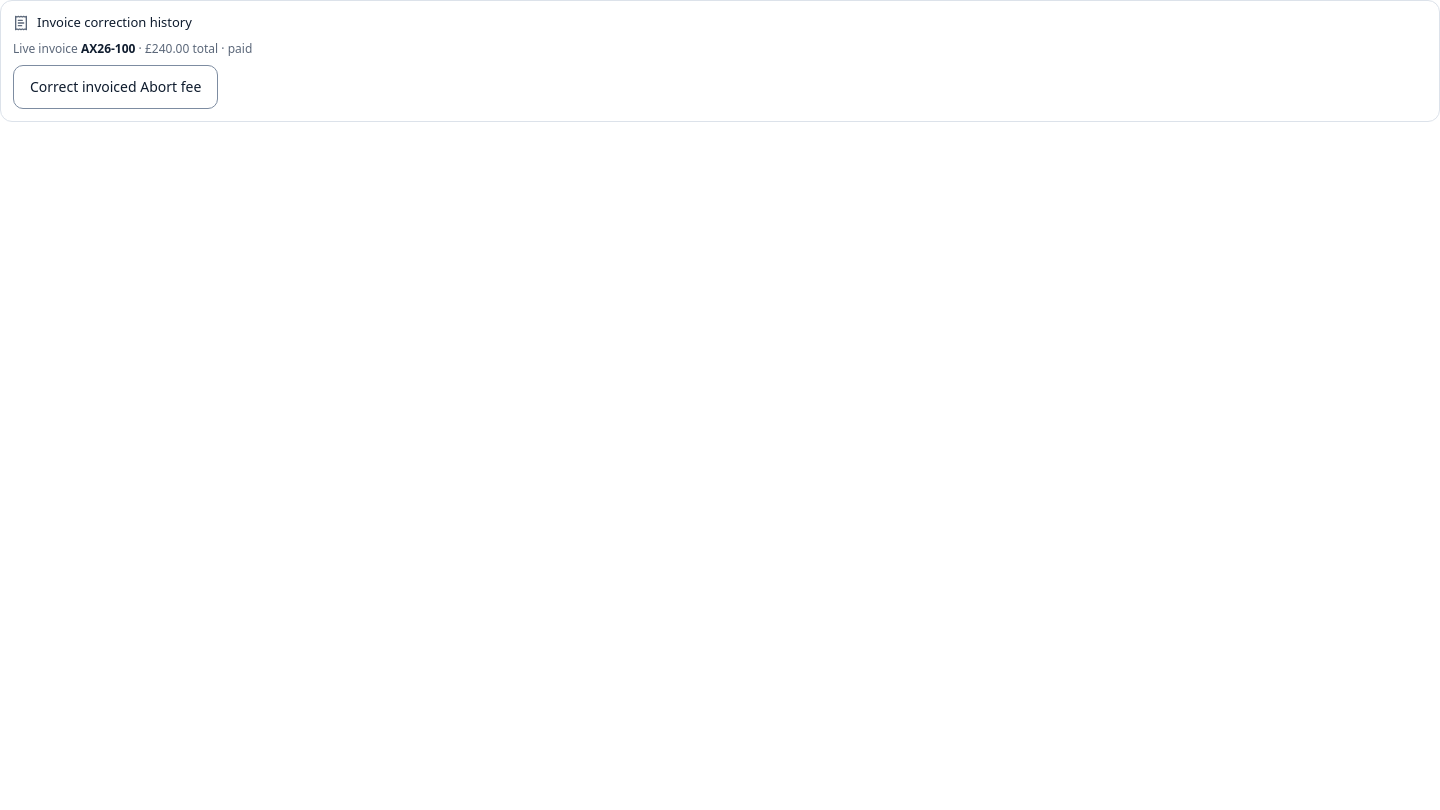
Test case: invoiced Abort fee correction › requires explicit warnings for a paid multi-job invoice
The image size is (1440, 810).
Click the button "Correct invoiced Abort fee". click: point(116, 86)
box: [13,64,218,108]
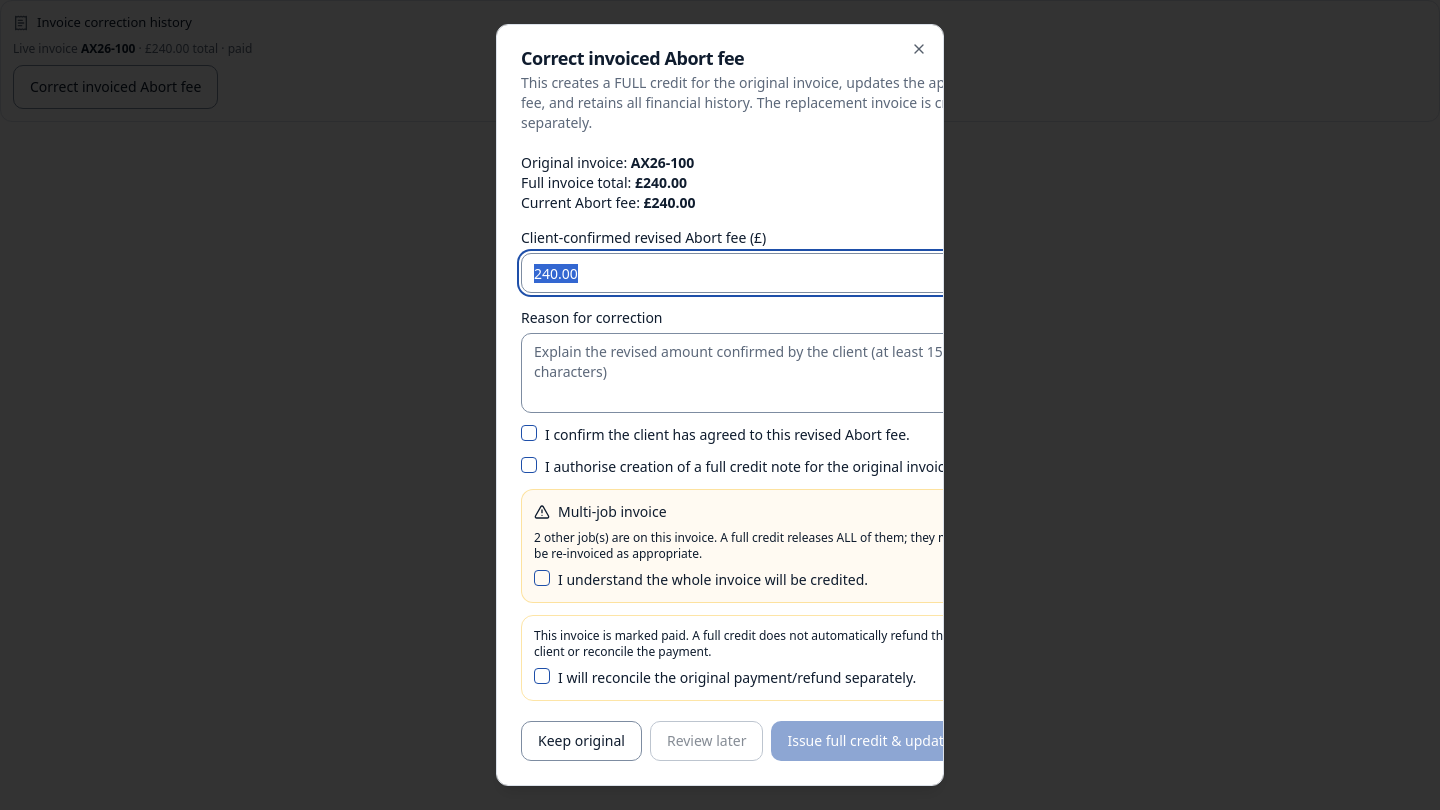
Replace the text in the field labelled "Client-confirmed revised Abort fee (£)" with "200". click: point(756, 273)
box: [521,253,992,293]
Replace the text in the text box labelled "Reason for correction" with "Client agreed a reduced final fee". click: point(756, 373)
box: [521,333,992,413]
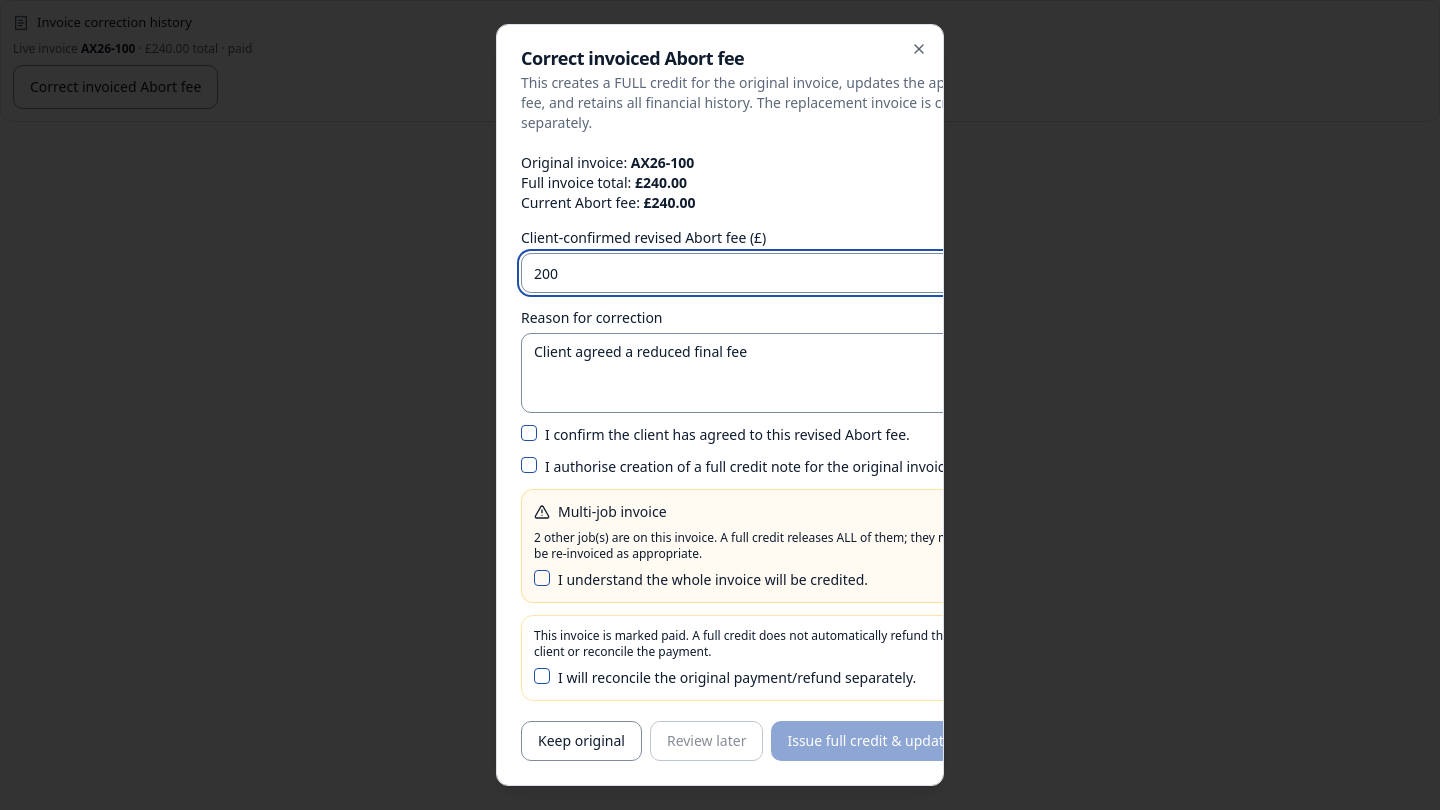
Click the text "I confirm the client has agreed to this revised Abort fee.". click: point(727, 435)
box: [545,425,910,445]
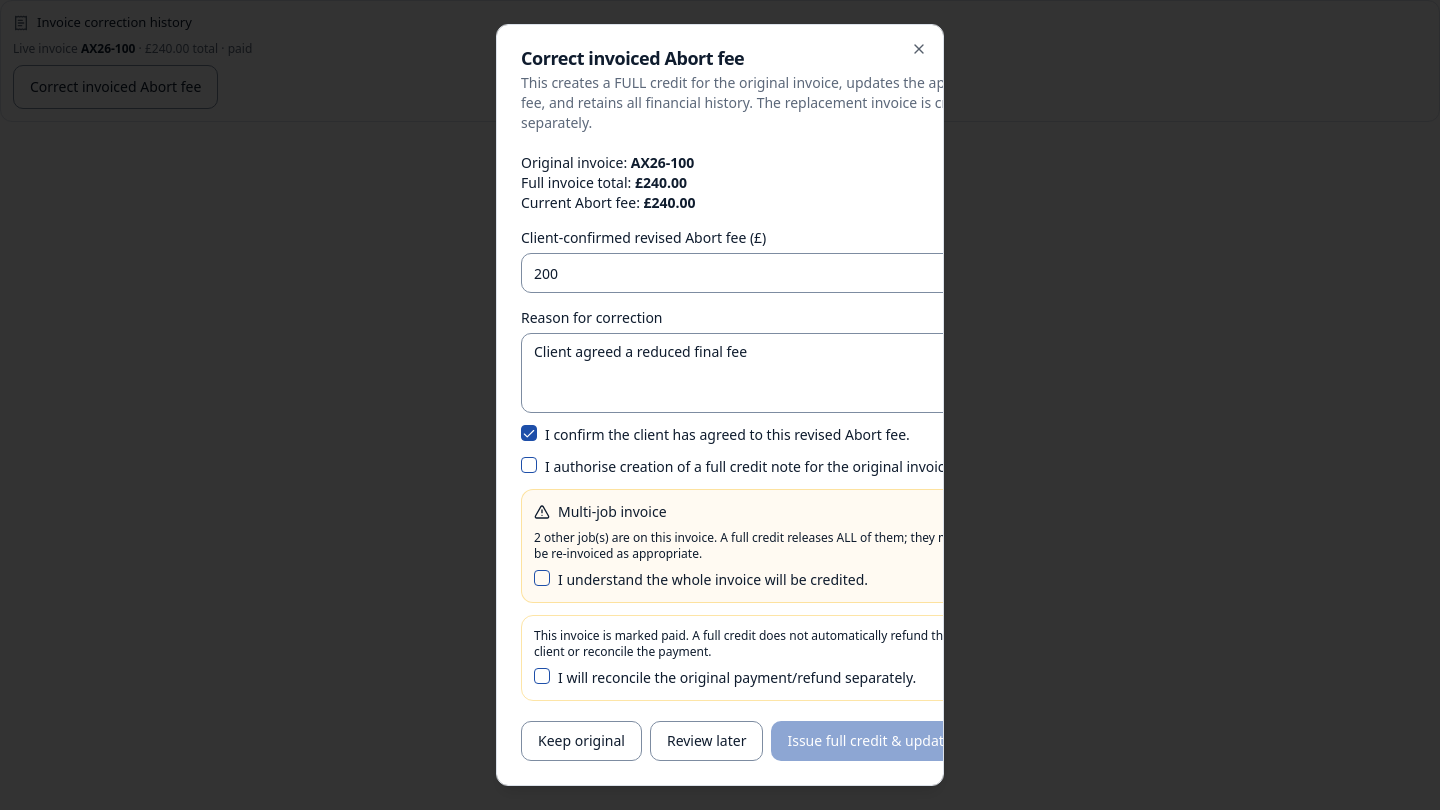
Result: the button "Issue full credit & update fee" is disabled at [771,721,944,761]
Click the text "I understand the whole invoice will be credited.". click: point(713, 580)
box: [558,570,868,590]
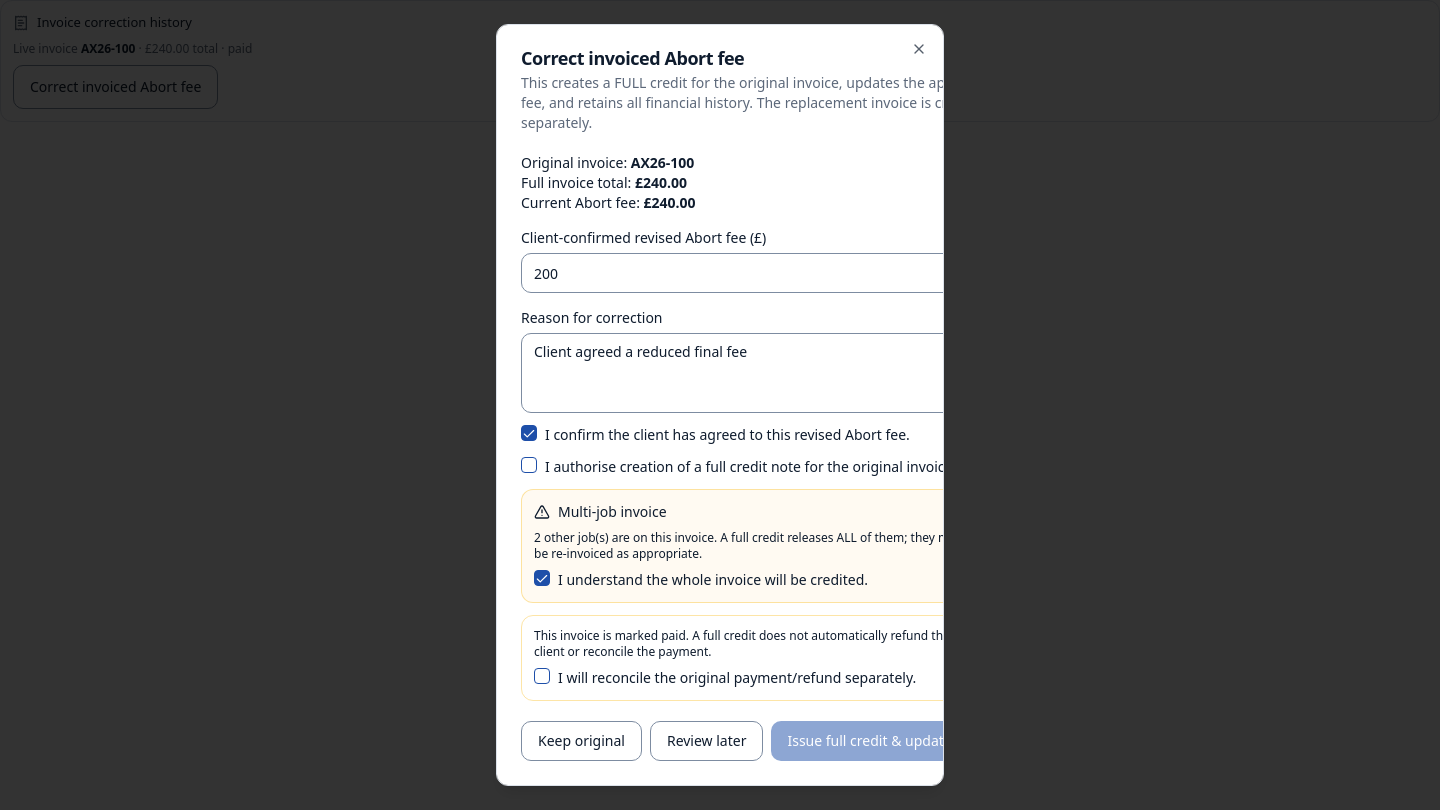
Result: the button "Issue full credit & update fee" is disabled at [771,721,944,761]
Click the text "I will reconcile the original payment/refund separately.". click: point(737, 678)
box: [558,668,916,688]
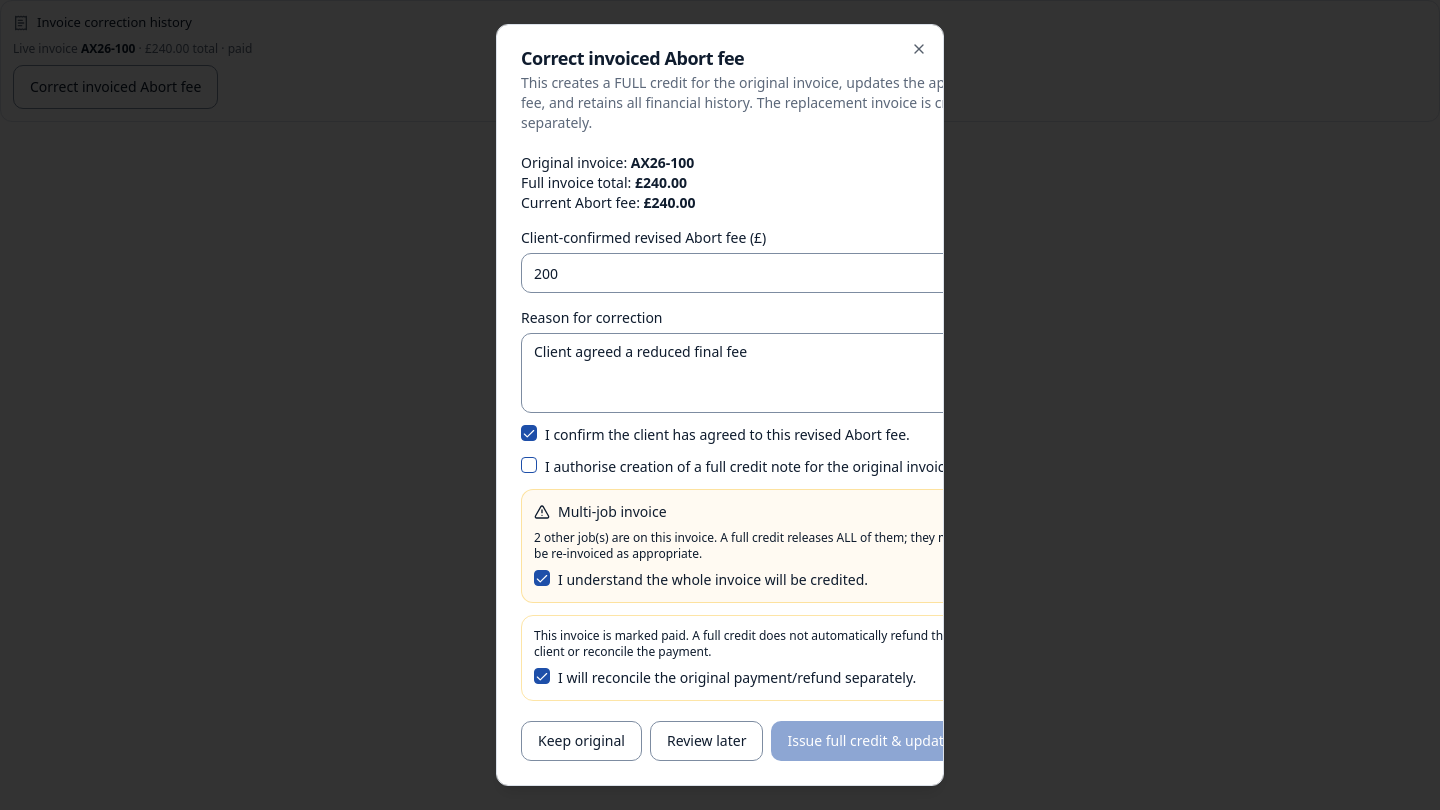
Result: the button "Issue full credit & update fee" is disabled at [771,721,944,761]
Click the text "I authorise creation of a full credit note for the original invoice.". click: point(751, 467)
box: [545,457,956,477]
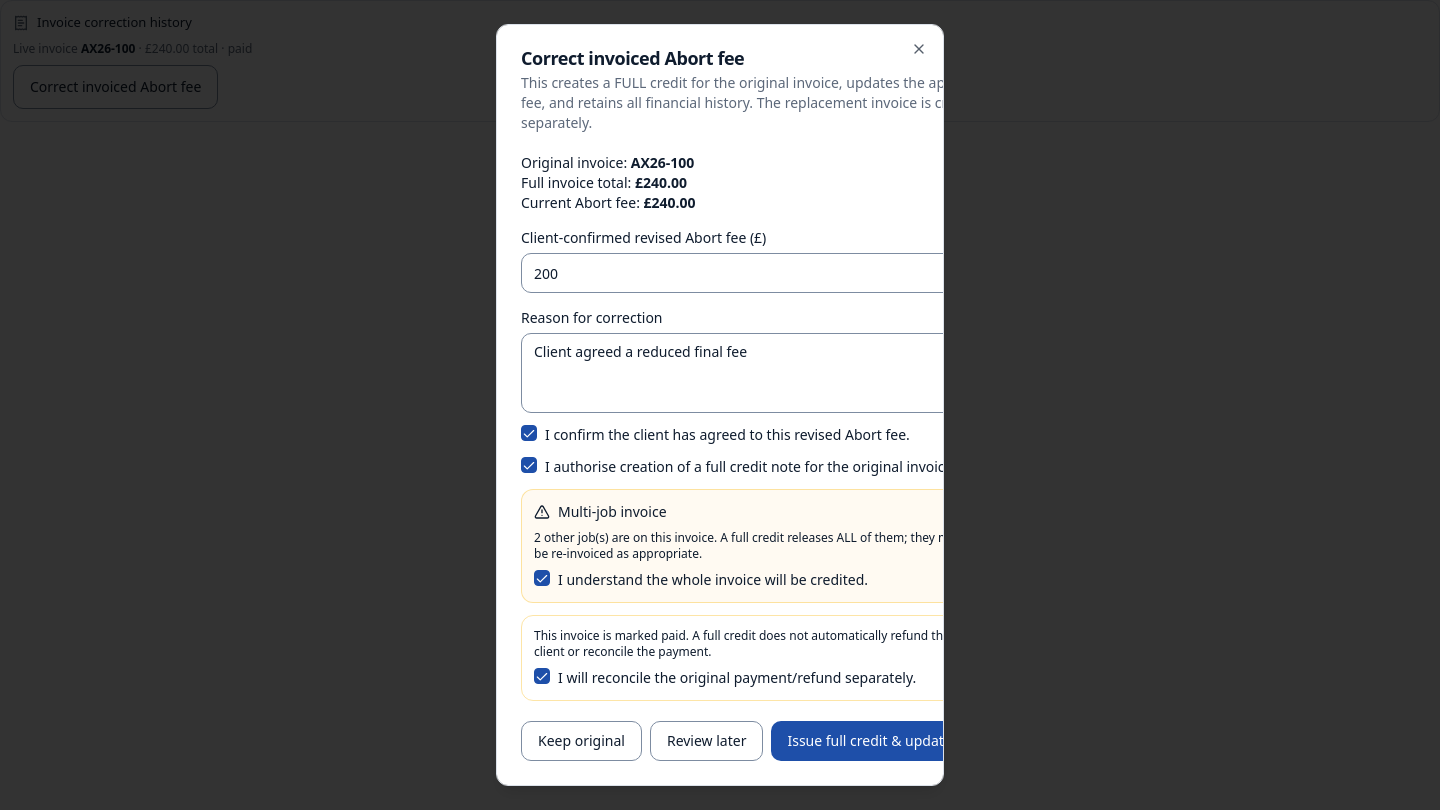
Result: the button "Issue full credit & update fee" is enabled at [771,721,944,761]
